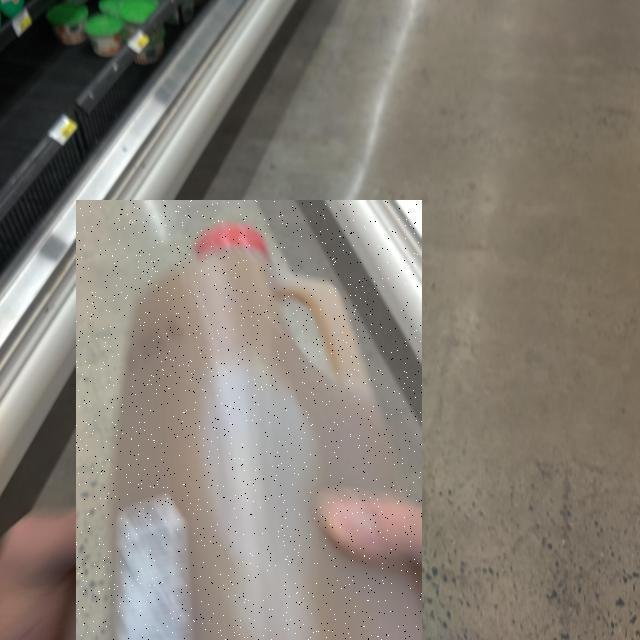Juice: (76, 200, 422, 640)
